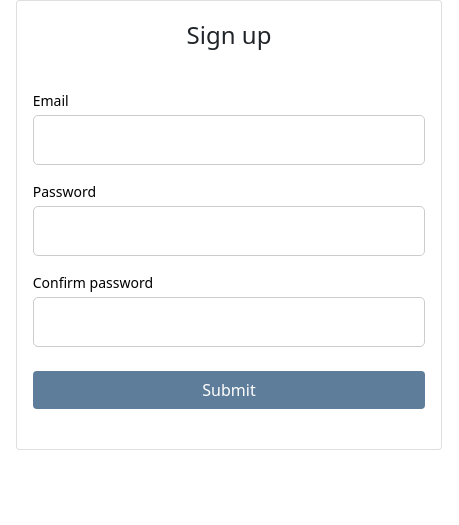
Test: SignupContainer › should show invalid confirmation password error if the field does not match with password
Expected: the number of forms is 1, [33, 74, 425, 433]
Type "Qwerty-123" into the 1st password field at (229, 231), box [33, 206, 425, 256]
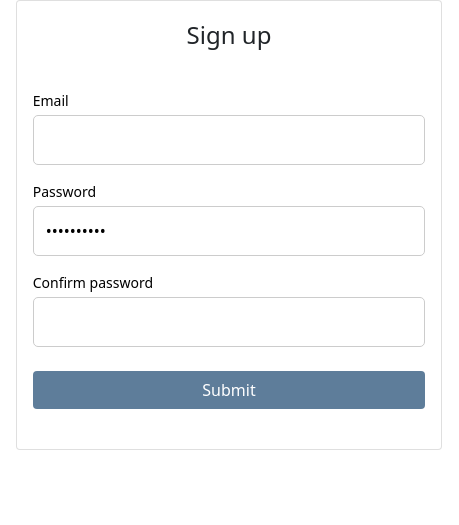
Type "not same" into the 2nd password field at (229, 322), box [33, 297, 425, 347]
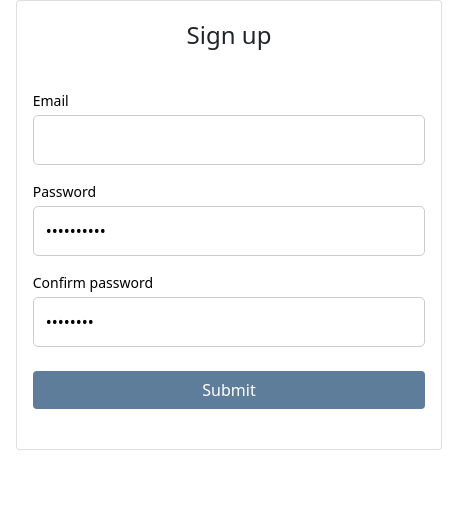
Submit the form, box [33, 74, 425, 433]
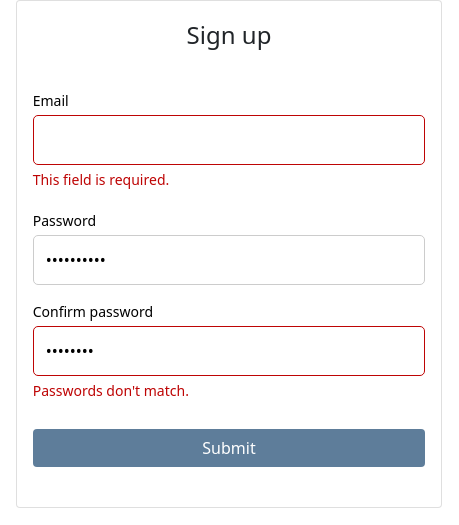
Now the text "Passwords don't match." is shown, box [33, 381, 189, 400]
